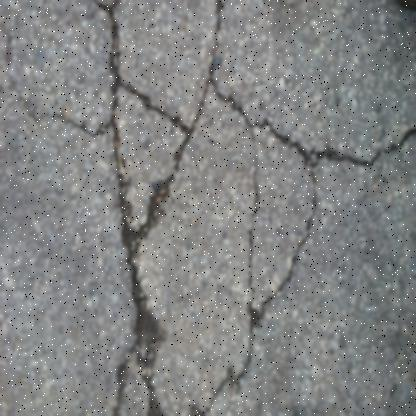Cracks: (206, 75, 416, 416), (95, 1, 227, 415), (8, 30, 112, 143)
